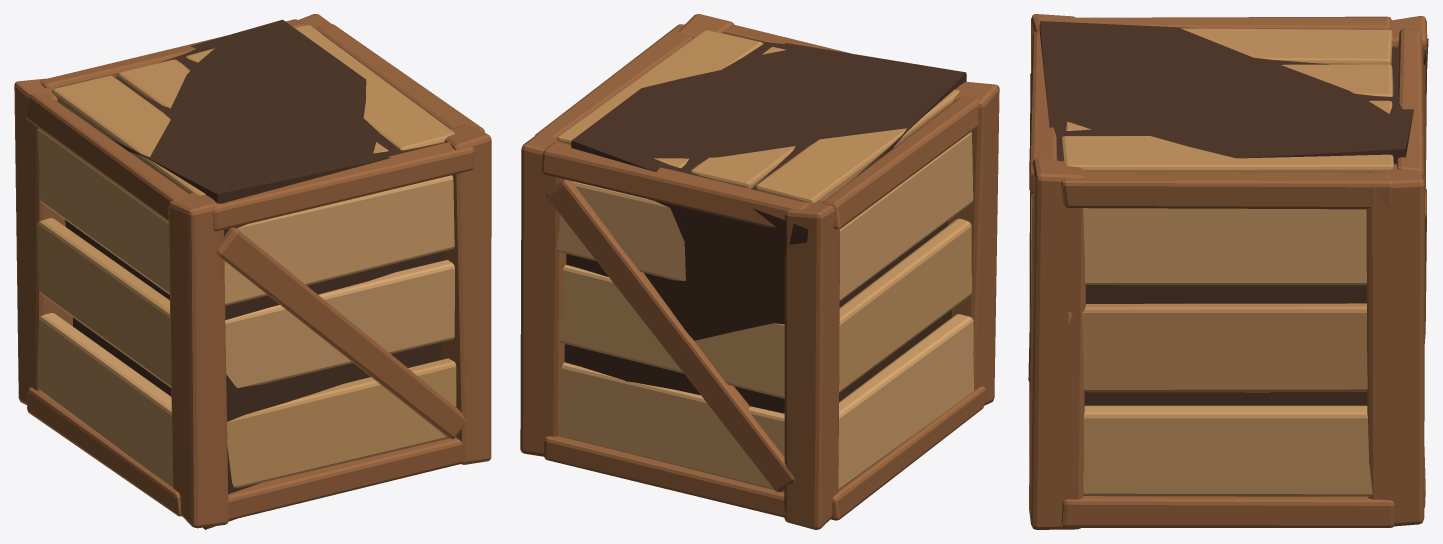
Rendered from crate.glb.
3 views of the same model, side by side, from view 1: azimuth 30°, elevation 25°; view 2: azimuth 150°, elevation 25°; view 3: azimuth 270°, elevation 25° (orthographic). The views are drawn at different scales.
Parts seen in each view (by area): view 1: inside, post0, slat0_0, slat0_1, slat0_2, lid, post1, slat3_0, slat3_1, slat3_2, brace0, rail0_9 (+6 smaller); view 2: inside, post3, slat2_0, lid, slat3_0, post2, slat3_1, slat2_1, brace2, slat3_2, post0, rail2_9 (+7 smaller); view 3: inside, slat1_0, slat1_1, slat1_2, post2, post1, lid, rail1_9, rail1_0, rail3_9, rail2_9, rail0_9 (+3 smaller).
Part boxes in pixels (left/top/right/bottom): inside: left=65, top=19, right=444, bottom=529; post0: left=168, top=192, right=228, bottom=528; slat0_0: left=227, top=358, right=456, bottom=487; slat0_1: left=225, top=260, right=454, bottom=387; slat0_2: left=224, top=175, right=454, bottom=305; lid: left=52, top=25, right=454, bottom=195; post1: left=441, top=124, right=491, bottom=464; slat3_0: left=37, top=313, right=172, bottom=487; slat3_1: left=37, top=218, right=171, bottom=387; slat3_2: left=37, top=128, right=169, bottom=294; brace0: left=217, top=227, right=466, bottom=438; rail0_9: left=213, top=142, right=474, bottom=231; inside: left=564, top=38, right=966, bottom=413; post3: left=784, top=200, right=839, bottom=529; slat2_0: left=559, top=362, right=784, bottom=492; lid: left=557, top=30, right=959, bottom=202; slat3_0: left=838, top=314, right=973, bottom=490; post2: left=520, top=133, right=569, bottom=456; slat3_1: left=839, top=218, right=971, bottom=392; slat2_1: left=559, top=264, right=784, bottom=398; brace2: left=546, top=179, right=795, bottom=492; slat3_2: left=839, top=132, right=973, bottom=301; post0: left=947, top=81, right=999, bottom=405; rail2_9: left=541, top=142, right=810, bottom=227; inside: left=1039, top=21, right=1428, bottom=405; slat1_0: left=1083, top=405, right=1377, bottom=496; slat1_1: left=1068, top=303, right=1367, bottom=392; slat1_2: left=1083, top=208, right=1366, bottom=285; post2: left=1366, top=164, right=1424, bottom=526; post1: left=1029, top=158, right=1085, bottom=529; lid: left=1061, top=28, right=1393, bottom=172; rail1_9: left=1061, top=172, right=1392, bottom=209; rail1_0: left=1061, top=496, right=1394, bottom=527; rail3_9: left=1070, top=16, right=1391, bottom=29; rail2_9: left=1396, top=28, right=1425, bottom=193; rail0_9: left=1029, top=31, right=1057, bottom=193.
Size of the model in its own units: 1.03 by 1.05 by 1.04.
